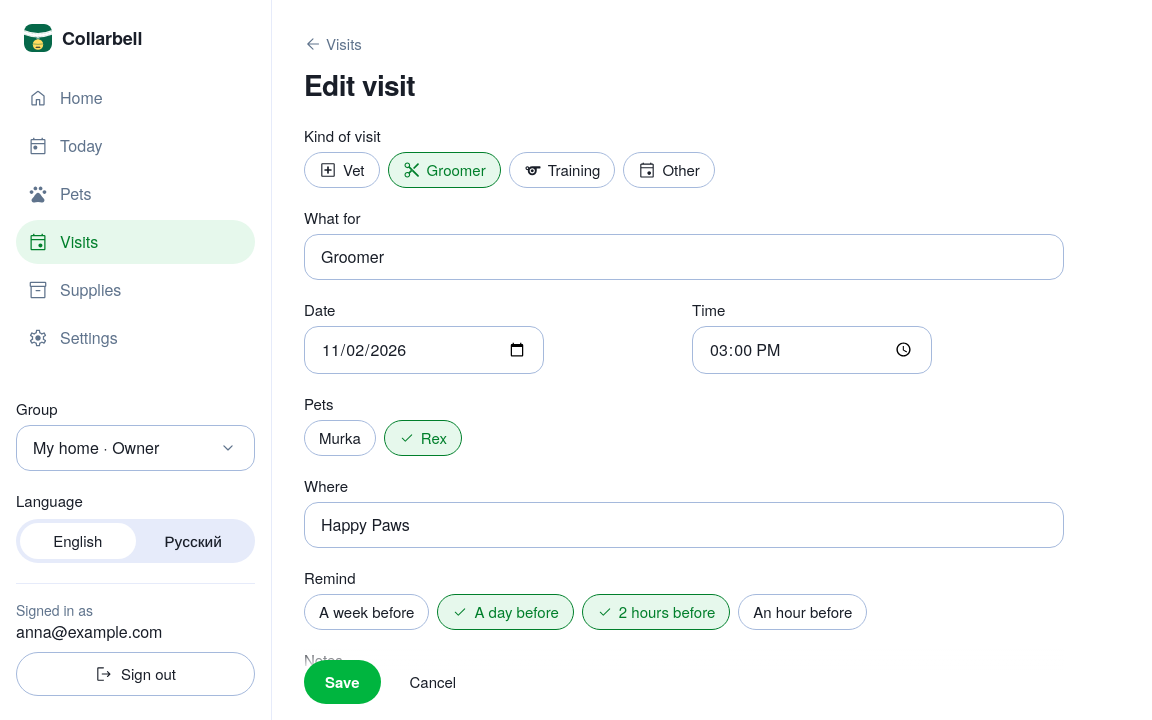
Test: visits › shows the server's refusal under its field
Expected: the field labelled "Where" holds "Happy Paws", [304,502,1064,548]
Click the button "Save" at (342, 682), box [304,660,380,704]
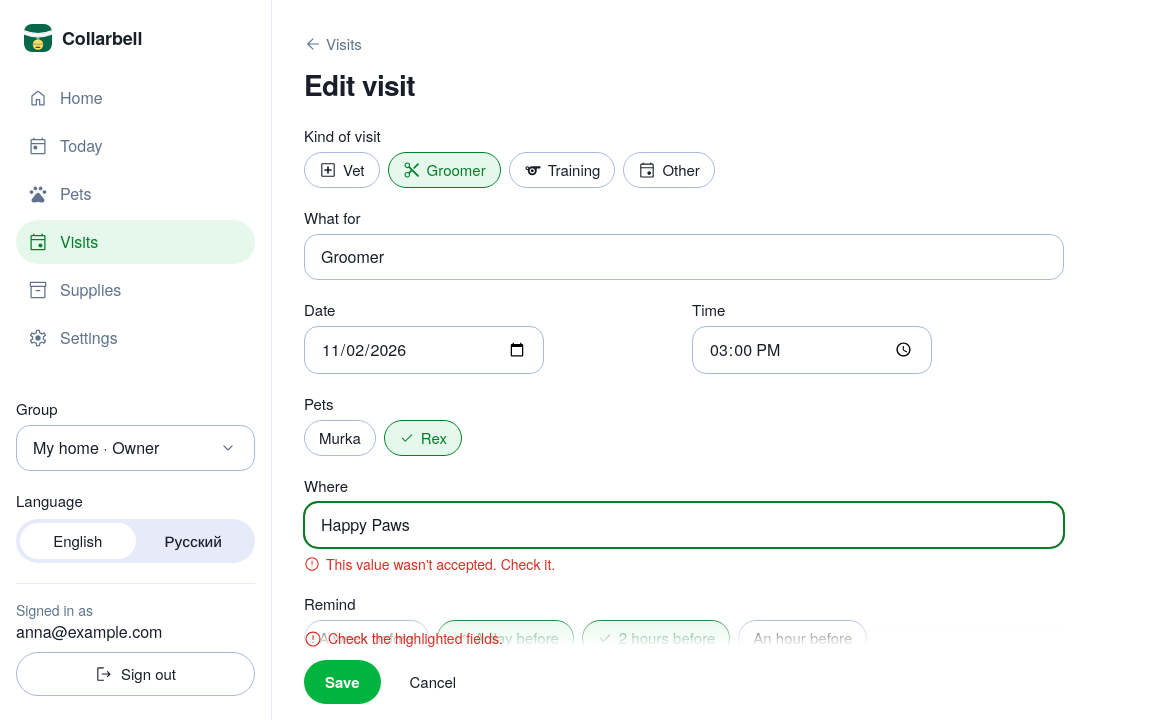
Result: the text "This value wasn't accepted. Check it." is shown at [304,554,555,574]
